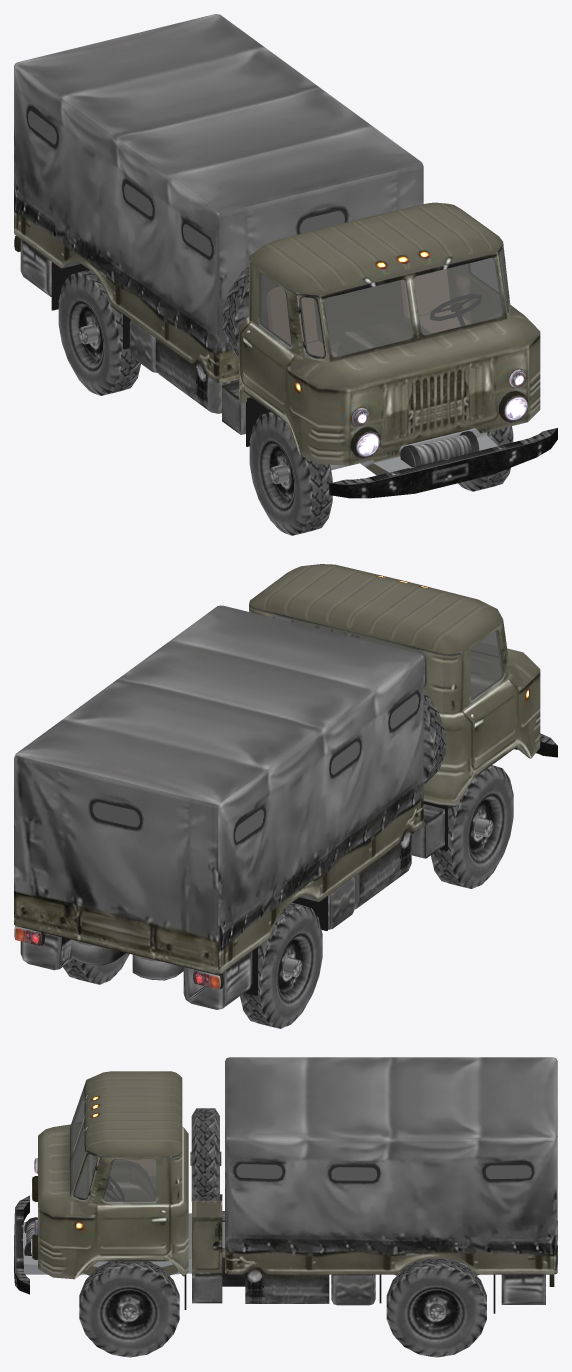
3 renders of one model, top to bottom at view 1: azimuth 30°, elevation 25°; view 2: azimuth 150°, elevation 25°; view 3: azimuth 270°, elevation 25°, orthographic. The views are drawn at different scales.
Parts seen in each view (by area): view 1: box, frame, extra, Wheel_FR, Wheel_BR, Wheel_Extra, Wheel_FL, helm; view 2: box, frame, extra, Wheel_BR, Wheel_FR, Wheel_Extra, Wheel_BL; view 3: box, frame, extra, Wheel_BL, Wheel_FL, Wheel_Extra.
Part boxes in pixels (left/top/right/bottom): box: left=14, top=14, right=423, bottom=383; frame: left=239, top=202, right=557, bottom=498; extra: left=14, top=236, right=270, bottom=446; Wheel_FR: left=249, top=412, right=332, bottom=535; Wheel_BR: left=58, top=270, right=140, bottom=395; Wheel_Extra: left=223, top=266, right=248, bottom=356; Wheel_FL: left=458, top=426, right=513, bottom=491; helm: left=430, top=294, right=481, bottom=325; box: left=14, top=605, right=423, bottom=974; frame: left=249, top=564, right=557, bottom=806; extra: left=14, top=801, right=447, bottom=1009; Wheel_BR: left=240, top=902, right=322, bottom=1028; Wheel_FR: left=431, top=765, right=513, bottom=888; Wheel_Extra: left=423, top=692, right=445, bottom=784; Wheel_BL: left=63, top=953, right=129, bottom=984; box: left=225, top=1057, right=557, bottom=1274; frame: left=14, top=1071, right=478, bottom=1294; extra: left=184, top=1194, right=557, bottom=1313; Wheel_BL: left=386, top=1259, right=486, bottom=1357; Wheel_FL: left=79, top=1261, right=179, bottom=1357; Wheel_Extra: left=190, top=1108, right=221, bottom=1201.
Bounding box in the file's own units: 292 × 333 × 741.
2 materials, 2 textured.
